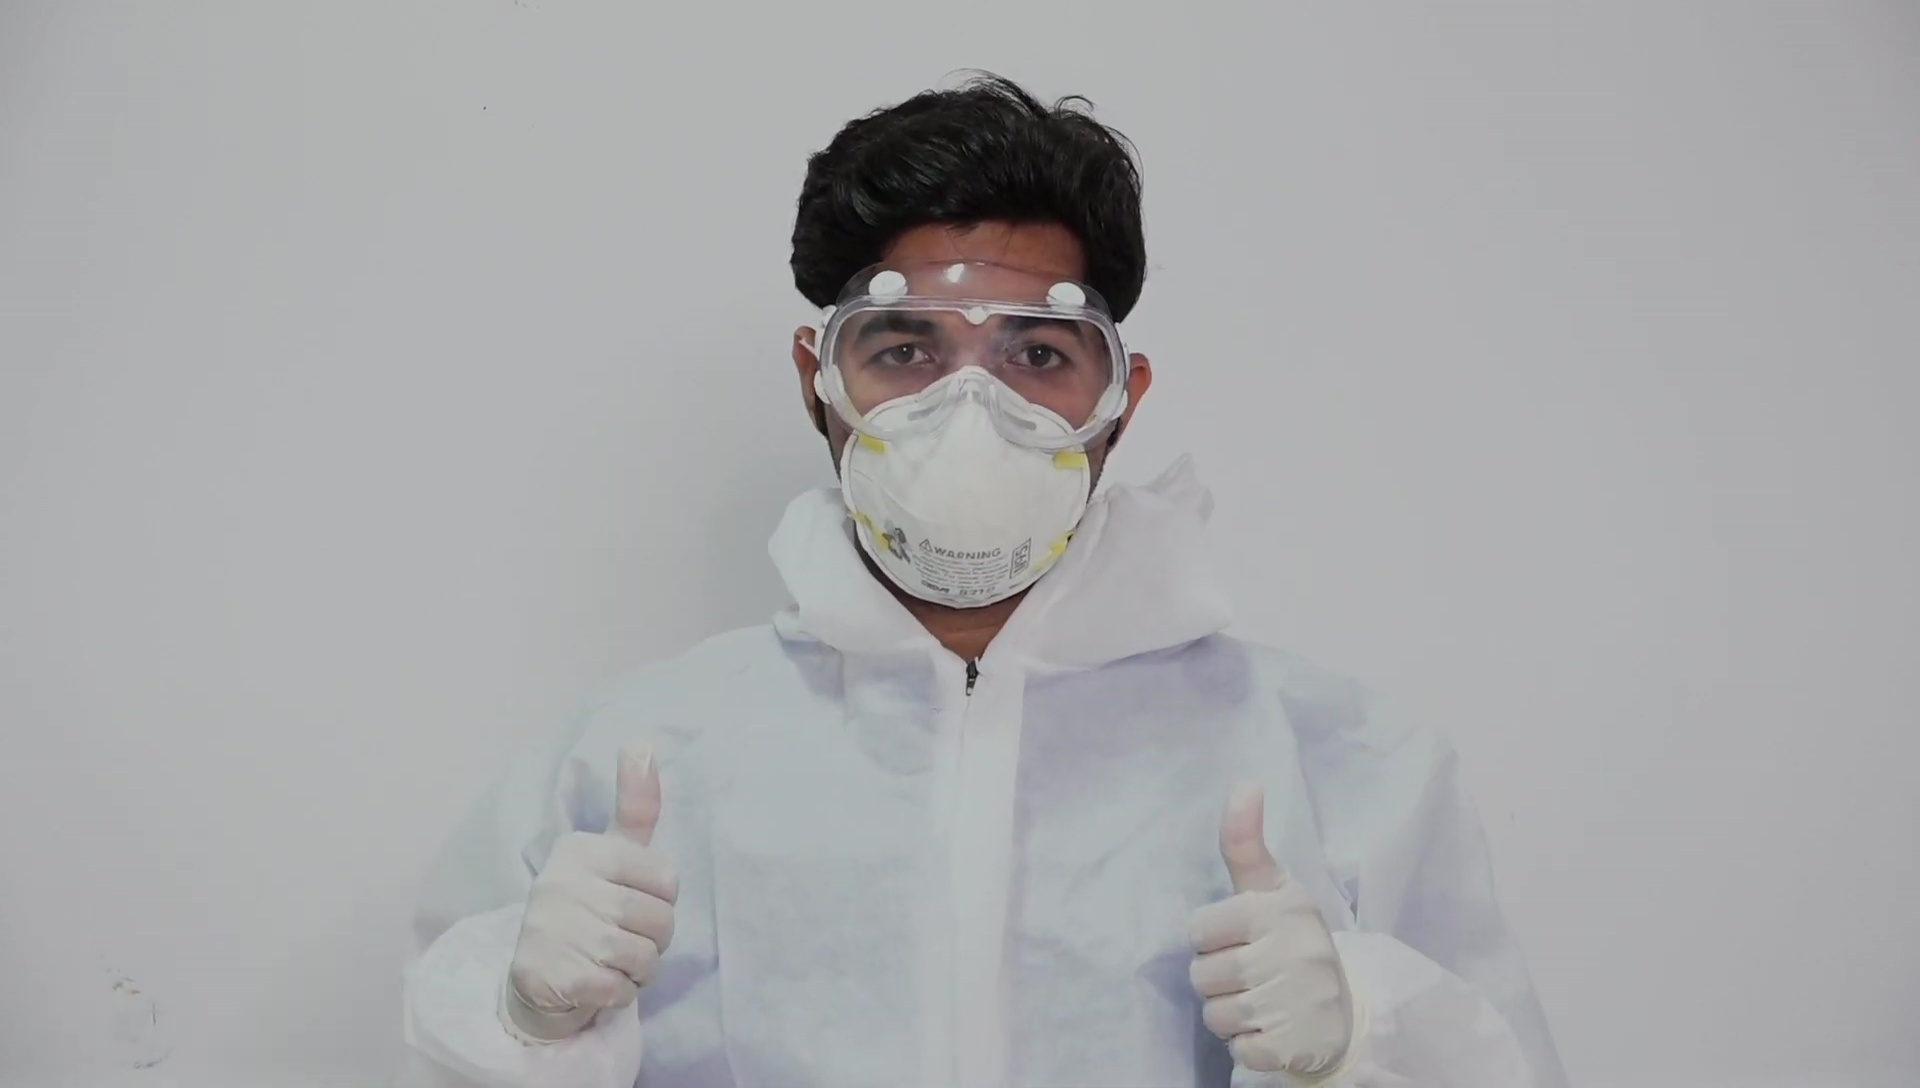Coverall: (402, 601, 1564, 1086)
Gloves: (505, 740, 678, 1042), (1185, 781, 1356, 1080)
Goggles: (815, 259, 1132, 455)
with_mask: (842, 343, 1103, 605)
